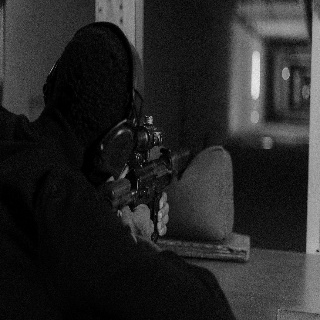rifle: (97, 114, 190, 244)
